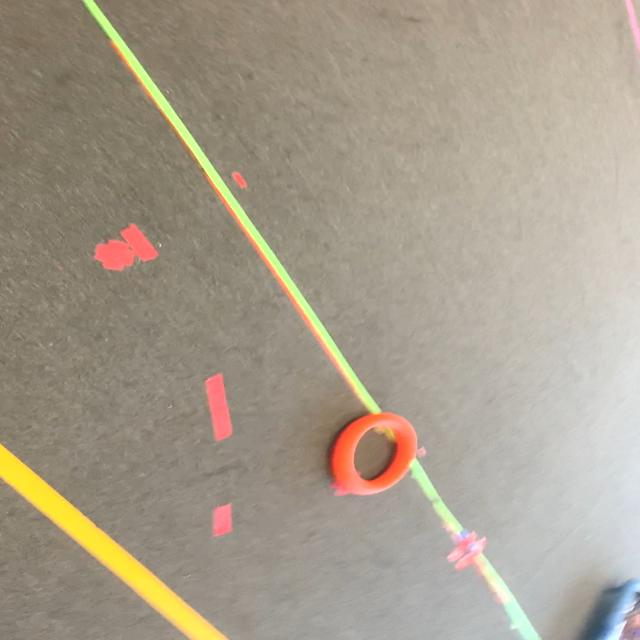notes: (330, 414, 416, 494)
